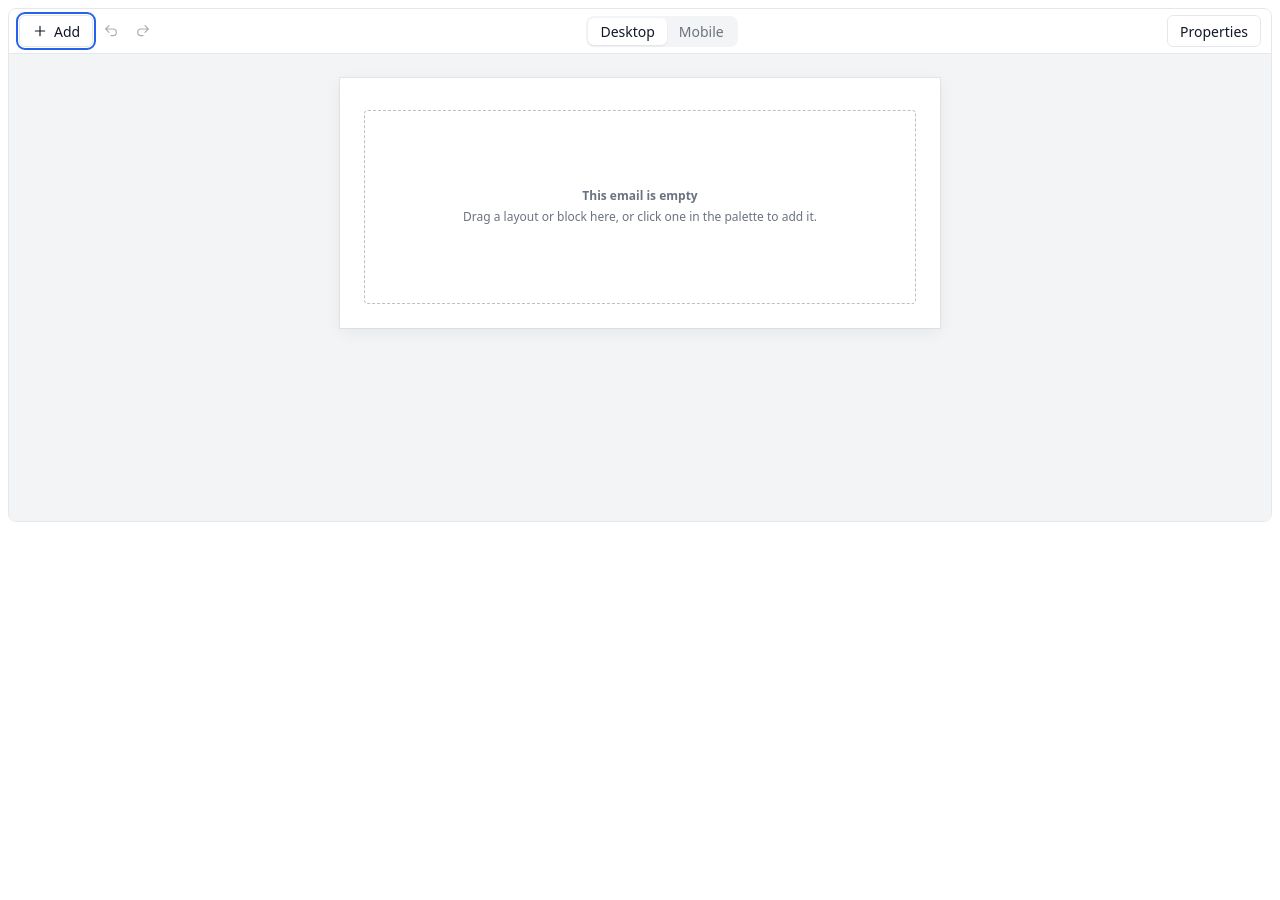
12. accessibility › a sheet traps Tab and gives focus back when it closes
The image size is (1280, 900).
Click the button "Add". click: click(56, 31)
box: [19,15,93,47]
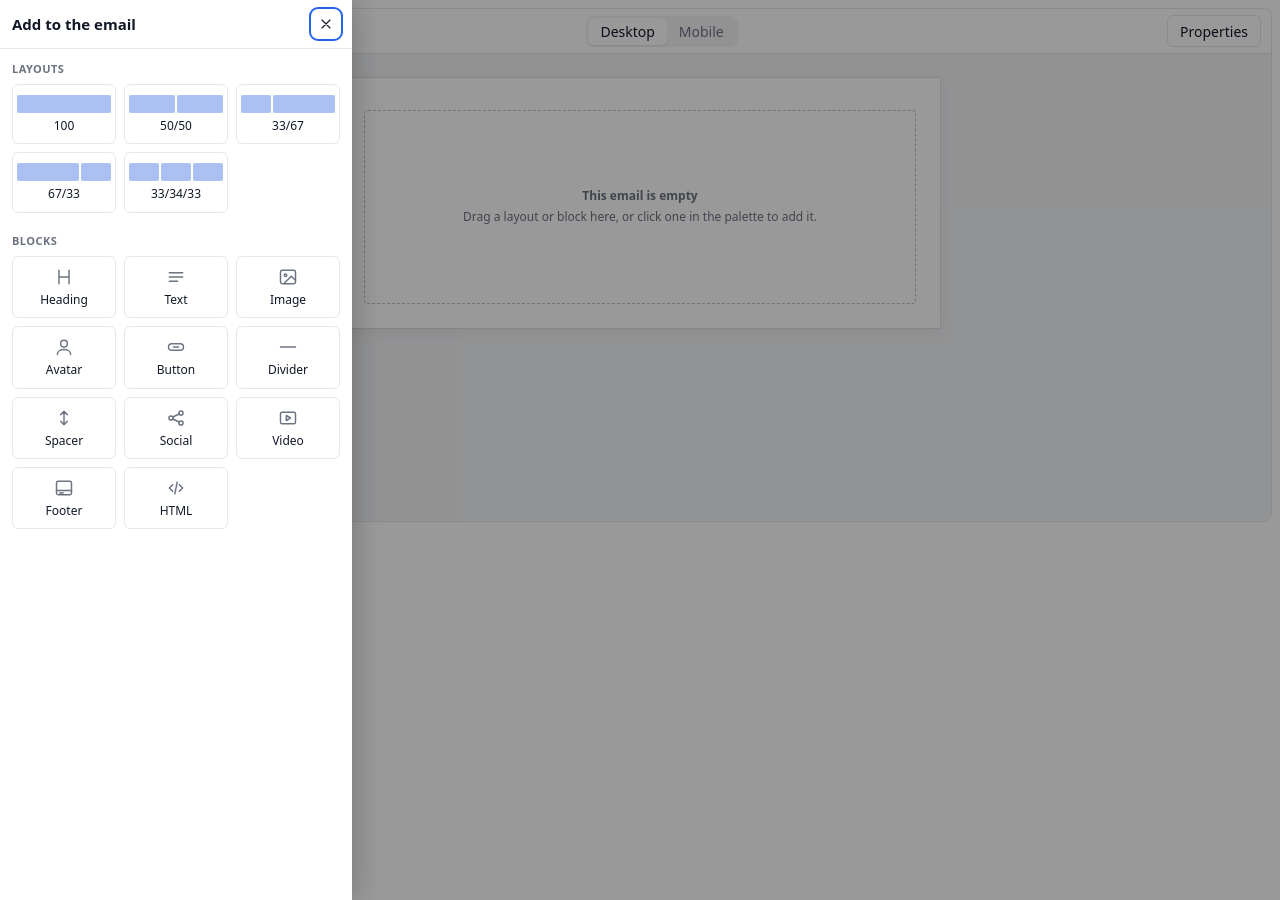
Note: Shift+Tab from the first control wraps to the last one.
Press Tab in the button named "Close Add to the email", box [312,10,340,38]
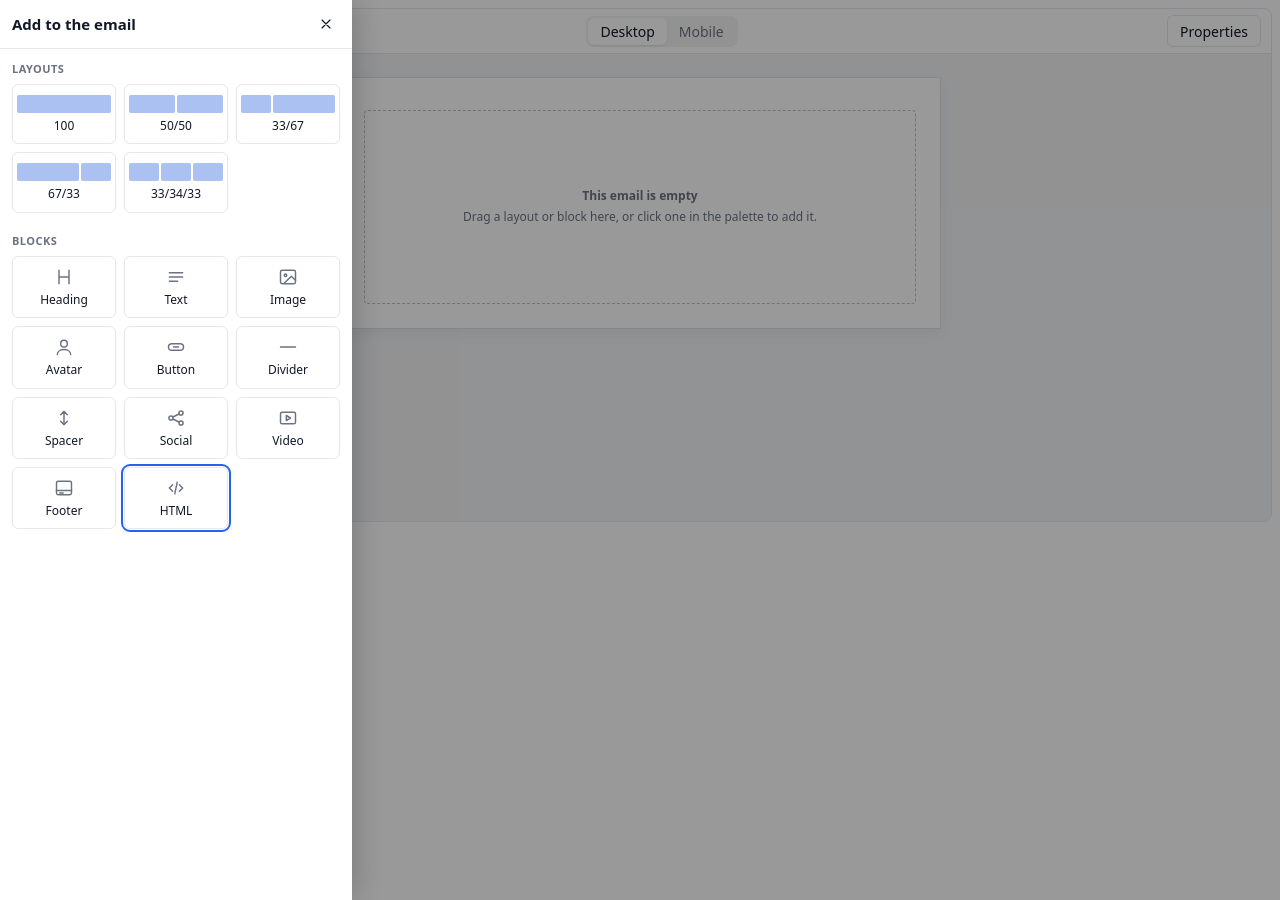
Note: Tab from the last wraps to the first.
Press Tab in the button "HTML", box [124,467,228,529]
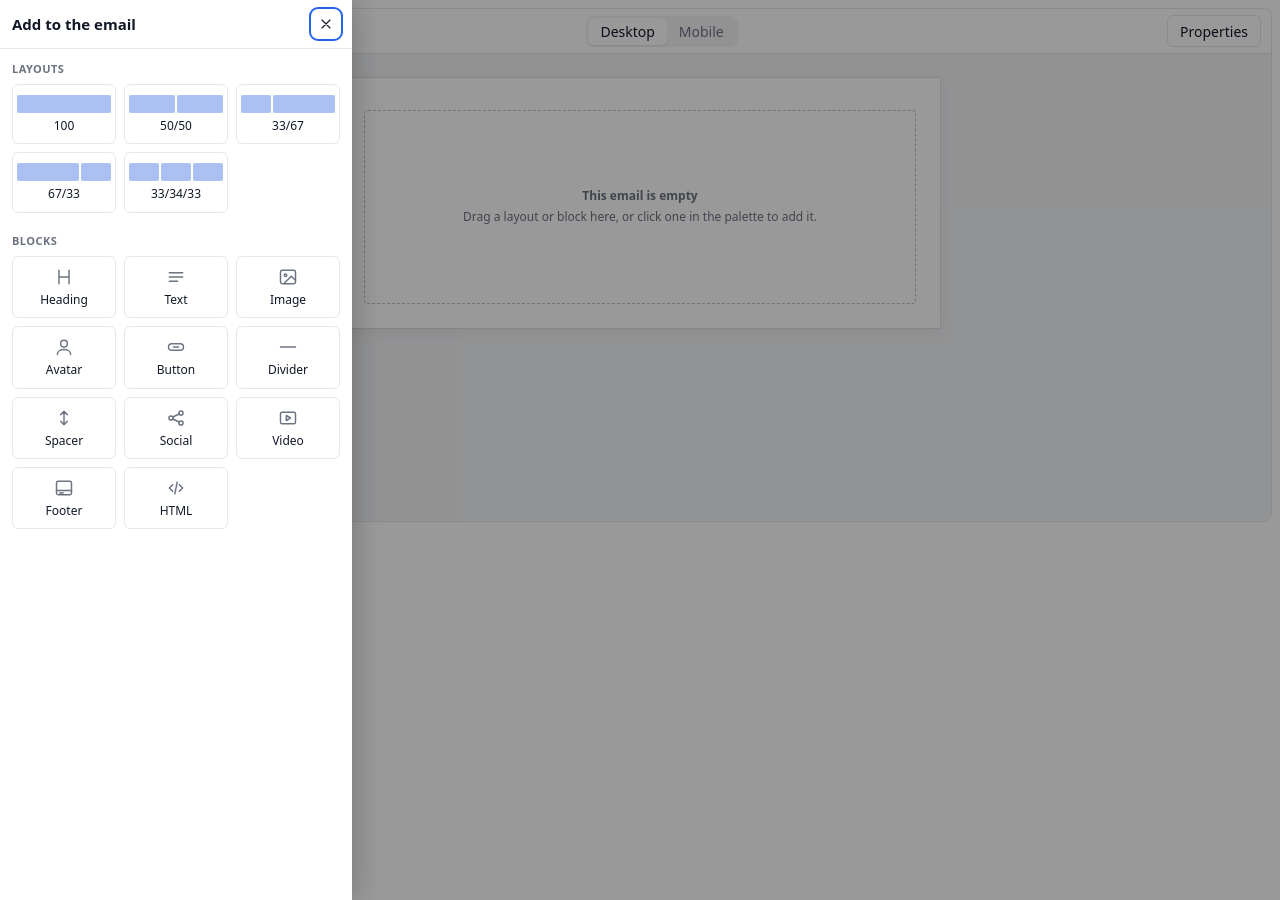
Press Escape in the dialog "Add to the email", box [0,0,352,899]
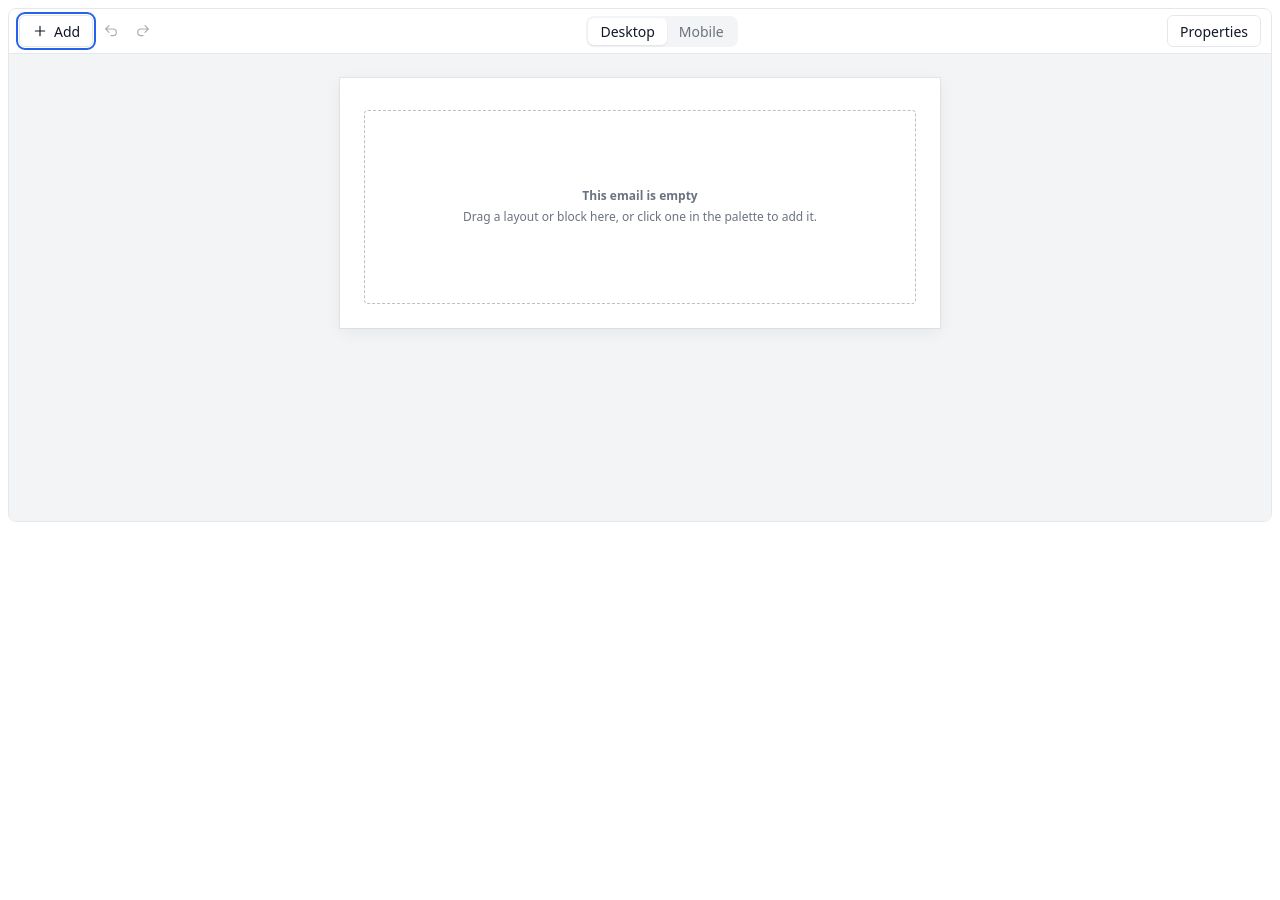
Expected: the dialog is gone
